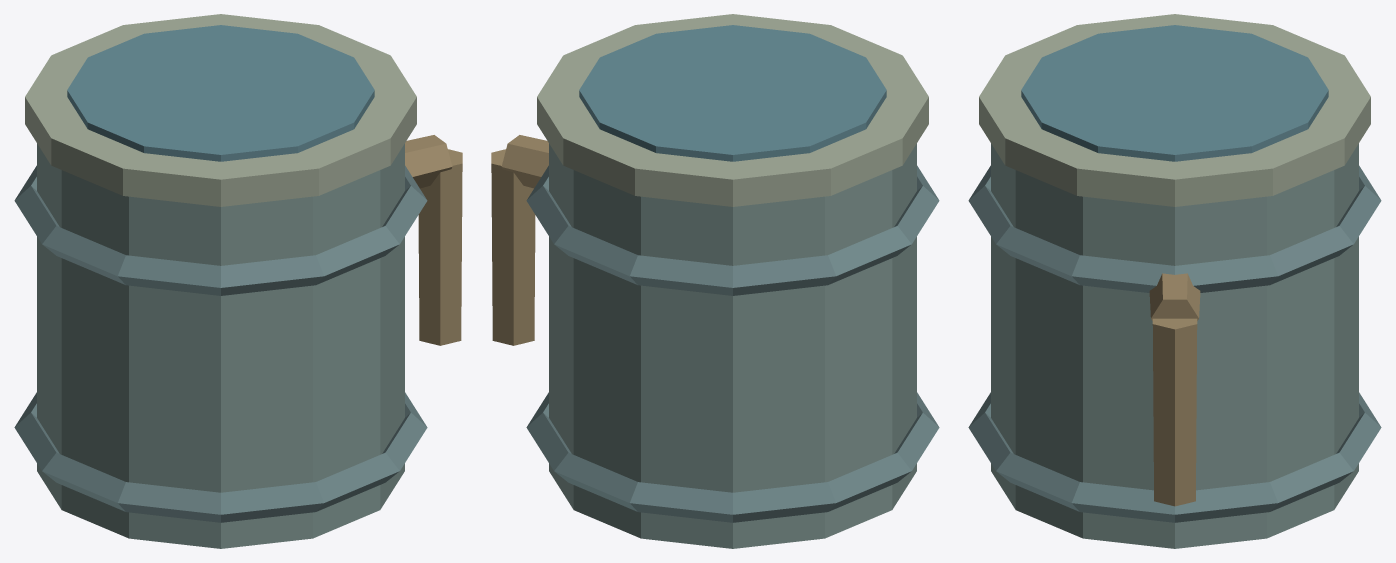
Rendered from map-exclusive-v3__iron_06.glb.
3 renders of one model, left to right at view 1: azimuth 30°, elevation 25°; view 2: azimuth 150°, elevation 25°; view 3: azimuth 270°, elevation 25°, orthographic.
Visible parts, largest first — view 1: iron_06; view 2: iron_06; view 3: iron_06.
Boxes of the visible parts, x1,y1,x2,y2 form: iron_06: [14, 14, 462, 548]; iron_06: [491, 14, 939, 548]; iron_06: [968, 14, 1381, 548].
Size of the model in its own units: 1.61 by 1.39 by 1.37.
